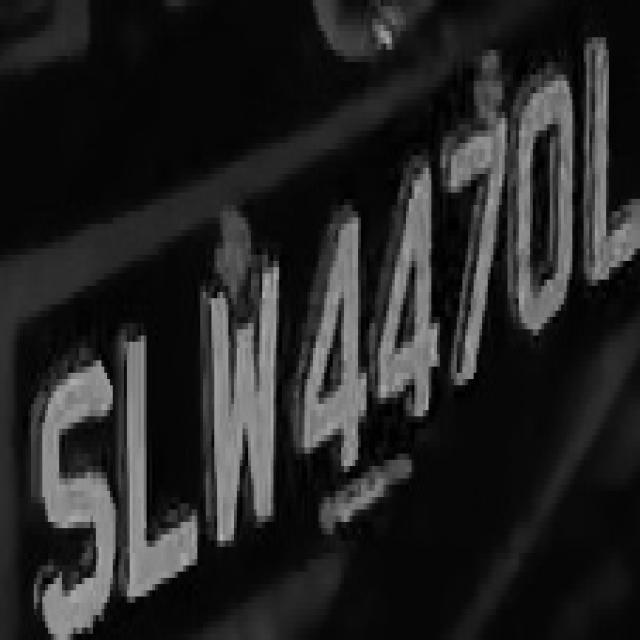0: (505, 62, 578, 348)
4: (288, 193, 370, 497), (364, 149, 446, 448)
7: (440, 106, 510, 404)
L: (116, 298, 203, 578), (572, 12, 638, 292)
S: (20, 348, 116, 615)
W: (203, 267, 282, 553)
